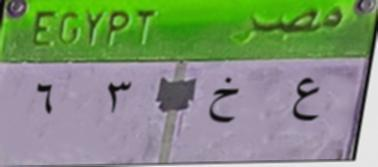3: (99, 77, 137, 121)
6: (30, 79, 56, 120)
ain: (287, 73, 322, 130)
khaa: (206, 72, 241, 134)
